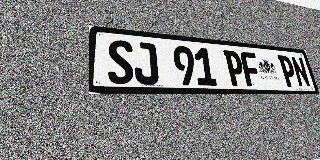1: (193, 47, 217, 86)
9: (172, 45, 197, 85)
F: (240, 51, 263, 86)
J: (133, 41, 159, 85)
N: (290, 56, 311, 87)
P: (223, 50, 247, 86), (277, 55, 299, 87)
S: (107, 39, 134, 84)
